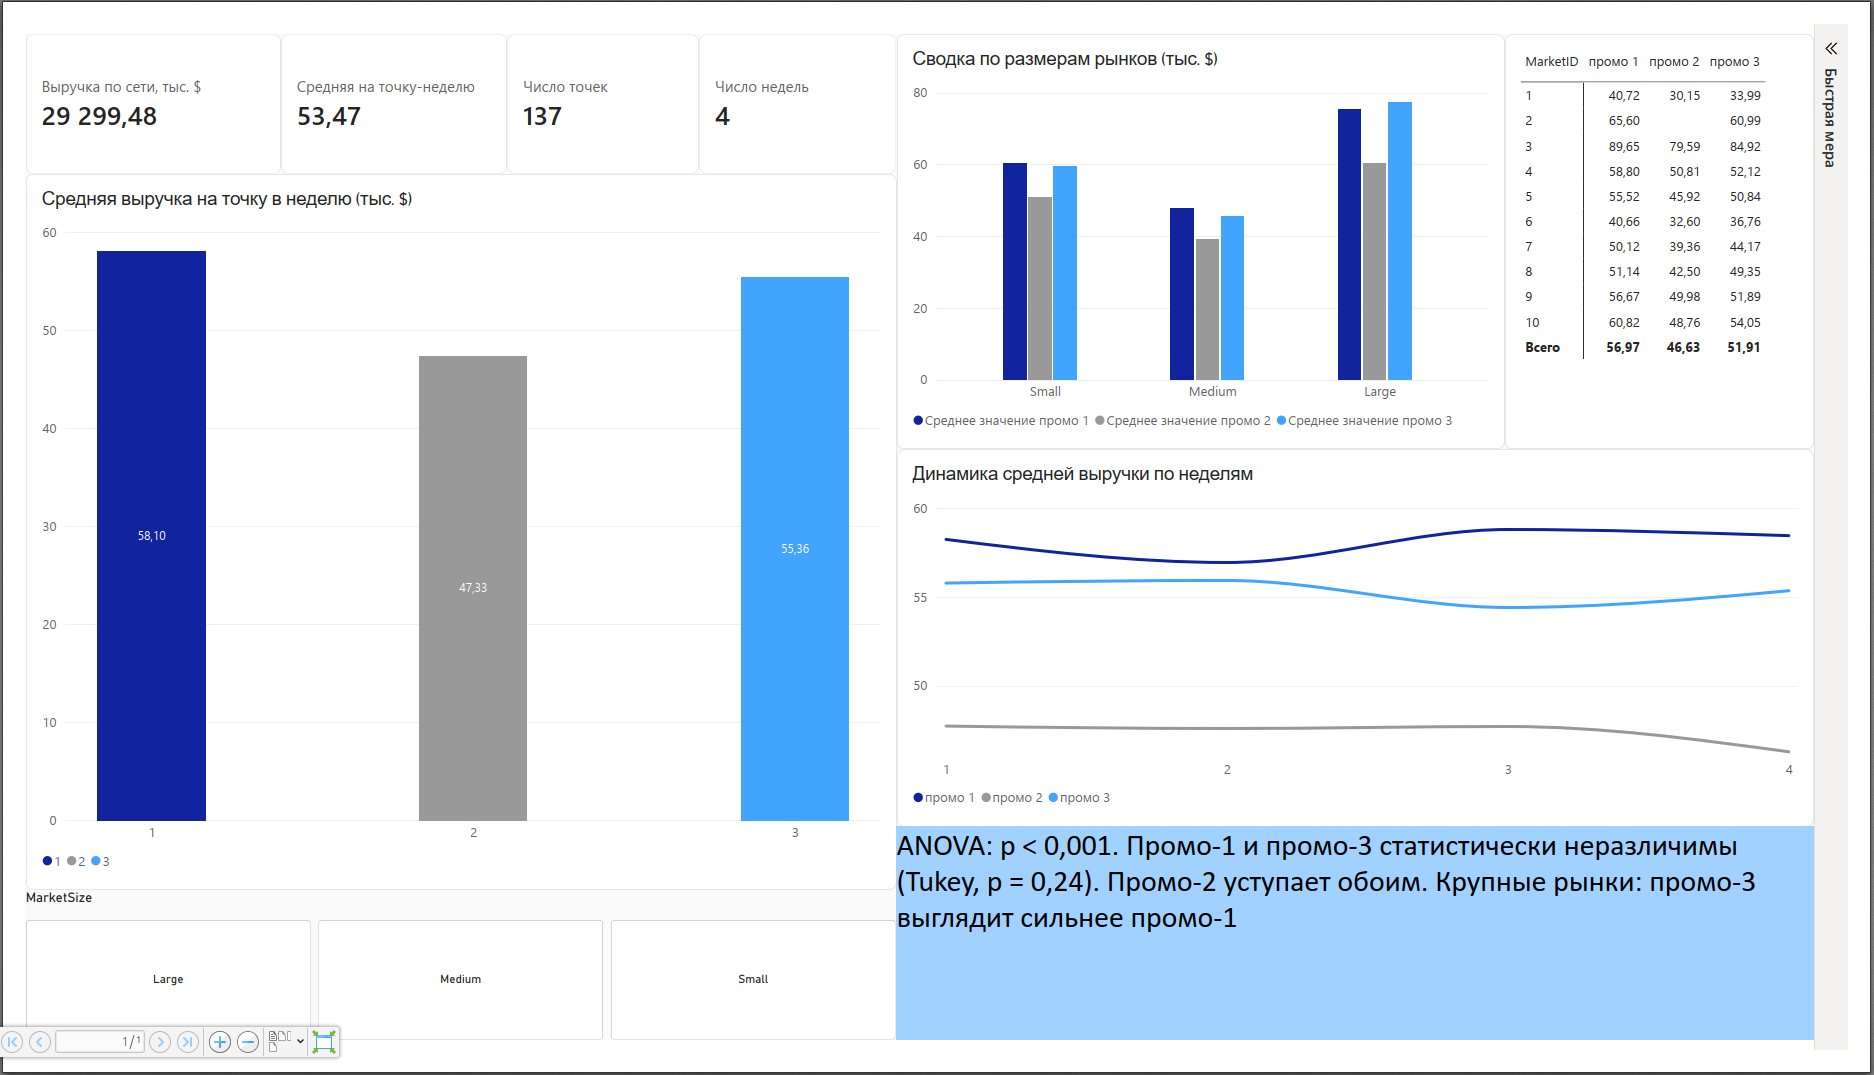

The page's visual inventory and layout, read from the dashboard file:
{"tool":"powerbi","page":{"name":"Страница 1","canvas":[1920,1080],"ordinal":0},"visuals":[{"type":"cardVisual","fields":{"Data":["Данные.Выручка по сети"]},"box":[0,0,274.5,150.3],"z":4},{"type":"cardVisual","fields":{"Data":["Данные.Средняя на точку-неделю"]},"box":[274.5,0,242.2,150.3],"z":5},{"type":"cardVisual","fields":{"Data":["Данные.Число точек"]},"box":[517.2,0,205.5,150.3],"z":6},{"type":"cardVisual","fields":{"Data":["Данные.Число недель"]},"box":[722.8,0,211,150.3],"z":7},{"type":"columnChart","title":"Средняя выручка на точку в неделю (тыс. $)","fields":{"Category":["Данные.Promotion"],"Series":["Данные.Promotion"],"Y":["Avg(Данные.SalesInThousands)"]},"box":[0,150.3,935.2,768.3],"z":8},{"type":"clusteredColumnChart","title":"Сводка по размерам рынков (тыс. $)","fields":{"Category":["По рынкам.MarketSize"],"Y":["Avg(По рынкам.промо 1)","Avg(По рынкам.промо 2)","Avg(По рынкам.промо 3)"]},"box":[935.2,0,652.4,445.5],"z":9},{"type":"lineChart","title":"Динамика средней выручки по неделям","fields":{"Category":["По неделям.week"],"Y":["Avg(По неделям.промо 1)","Avg(По неделям.промо 2)","Avg(По неделям.промо 3)"]},"box":[935.2,445.5,984.8,405.5],"z":10},{"type":"pivotTable","fields":{"Rows":["По Market ID.MarketID"],"Values":["Avg(По Market ID.промо 1)","Avg(По Market ID.промо 2)","Avg(По Market ID.промо 3)"]},"box":[1587.6,0,332.4,445.5],"z":11},{"type":"advancedSlicerVisual","fields":{"Values":["Данные.MarketSize"]},"box":[0,918.6,935.2,161.4],"z":12},{"type":"textbox","box":[935.2,851,984.8,229],"z":13}]}

Visuals, with their boxes on the page's 1920x1080 design canvas (x1, y1, x2, y2). These are canvas units, not pixel positions in the 1874x1075 screenshot, which may show the page scaled, cropped or inside an application window:
cardVisual - Данные.Выручка по сети: <box>0,0,274,150</box>
cardVisual - Данные.Средняя на точку-неделю: <box>274,0,517,150</box>
cardVisual - Данные.Число точек: <box>517,0,723,150</box>
cardVisual - Данные.Число недель: <box>723,0,934,150</box>
"Средняя выручка на точку в неделю (тыс. $)" columnChart: <box>0,150,935,919</box>
"Сводка по размерам рынков (тыс. $)" clusteredColumnChart: <box>935,0,1588,446</box>
"Динамика средней выручки по неделям" lineChart: <box>935,446,1920,851</box>
pivotTable - По Market ID.MarketID x Avg(По Market ID.промо 1): <box>1588,0,1920,446</box>
advancedSlicerVisual - Данные.MarketSize: <box>0,919,935,1080</box>
textbox: <box>935,851,1920,1080</box>
